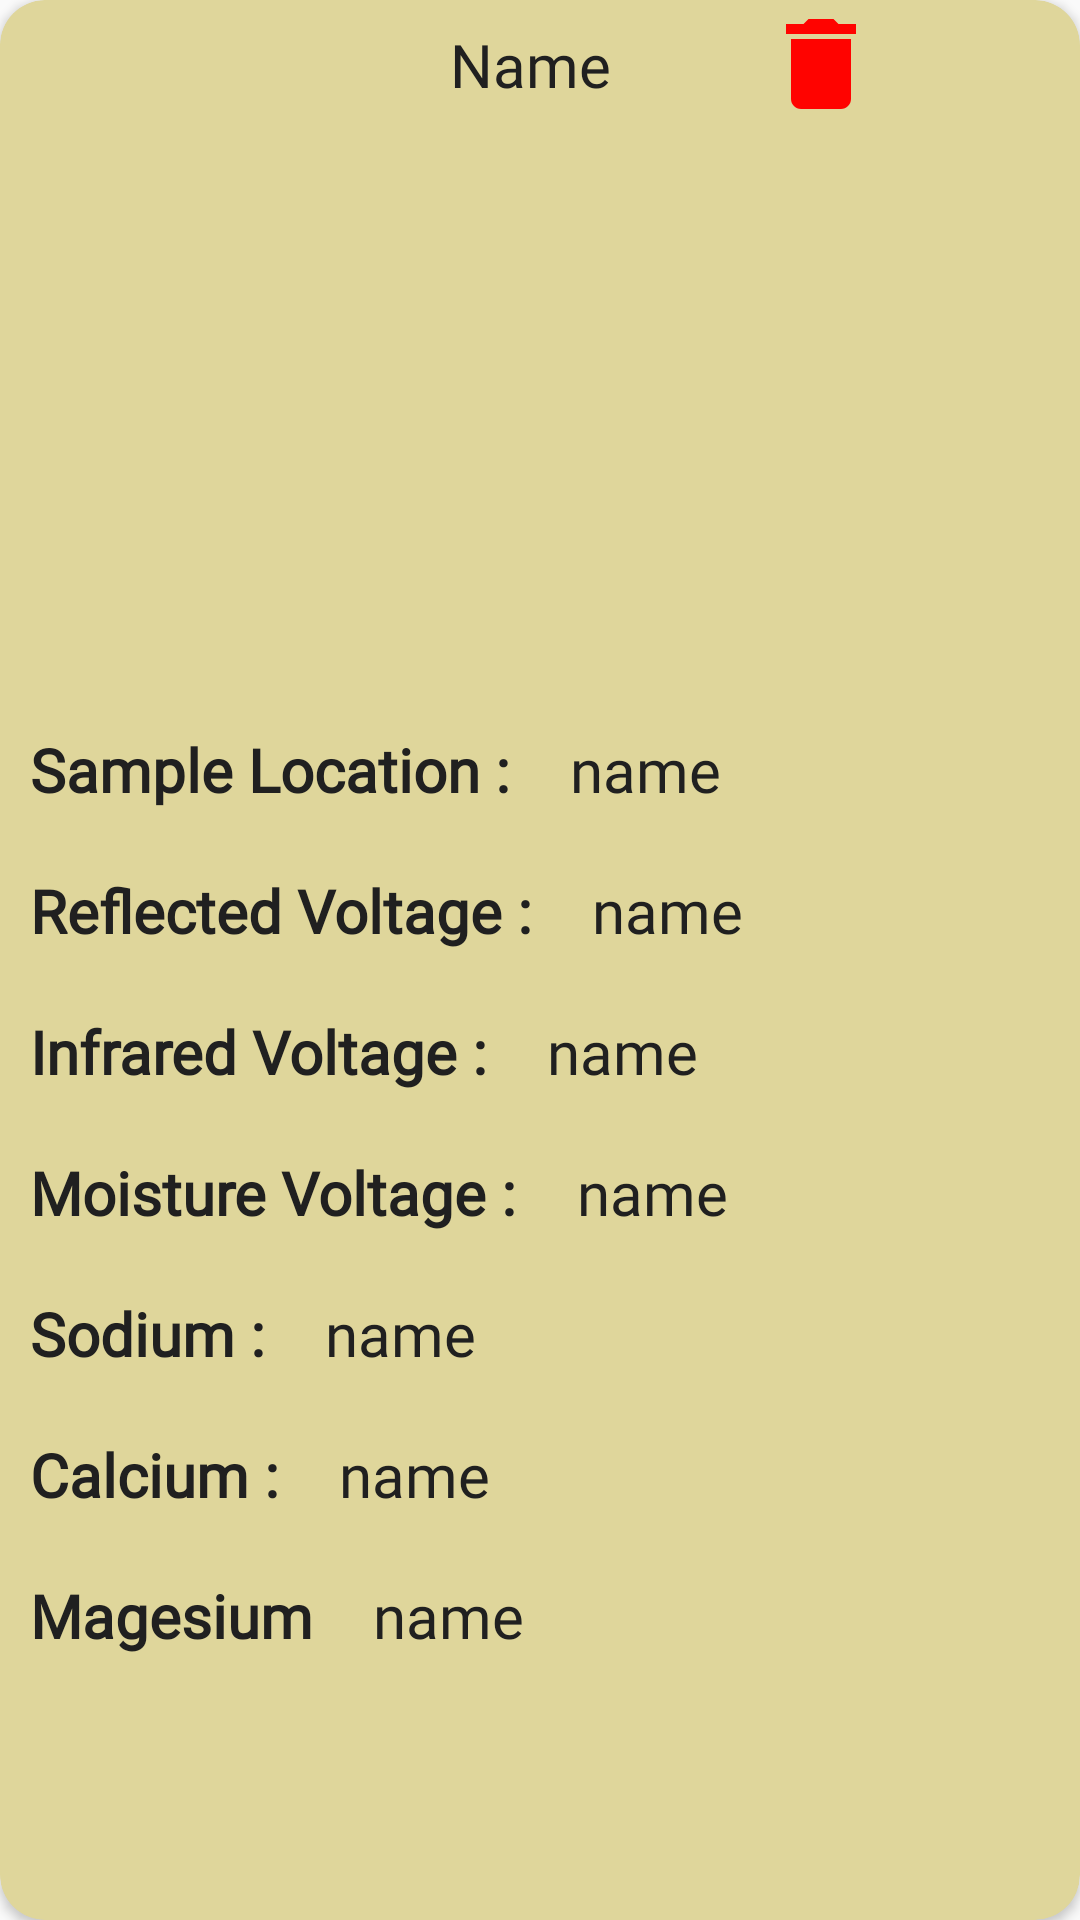

Where to tap for icons on this 1080x1920 app screen, as (x=x, y=y):
delete: (x=821, y=64)
